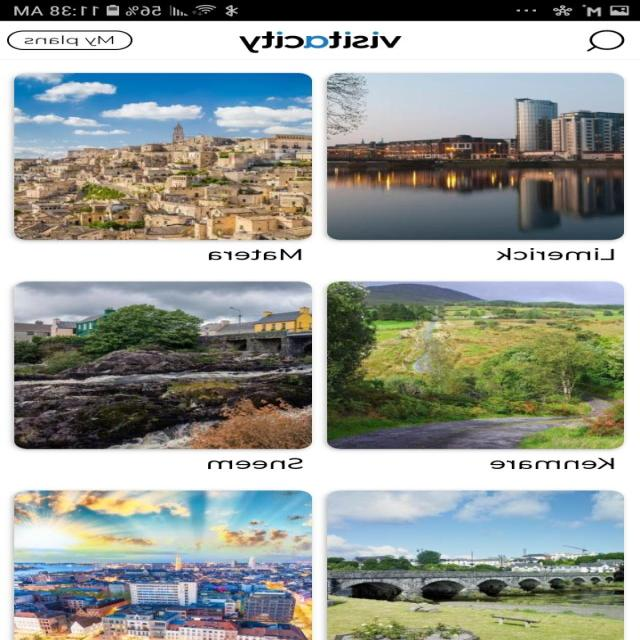Icon: (586, 29, 626, 52)
Image: (15, 281, 314, 449), (327, 281, 625, 449), (14, 73, 312, 240), (327, 73, 625, 240), (14, 490, 313, 640), (327, 490, 625, 639), (239, 31, 403, 53)
Text: (490, 457, 616, 469), (494, 248, 615, 260), (208, 457, 304, 469), (208, 249, 302, 261)
TextButton: (7, 30, 133, 50)
